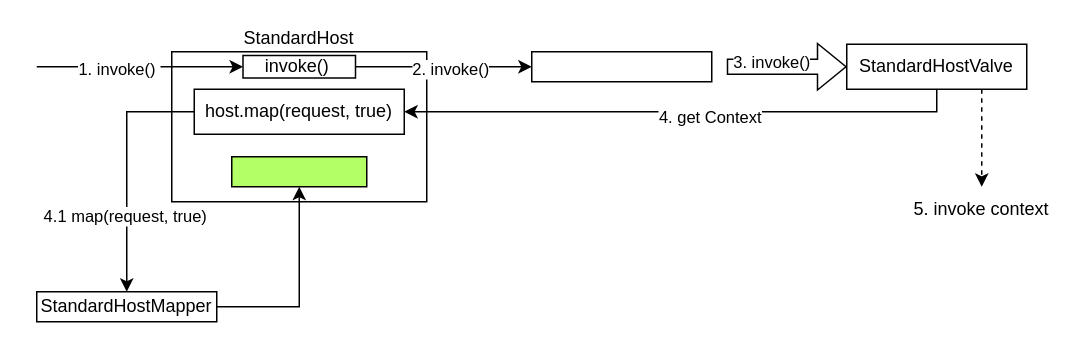
The diagram is 1083 pixels wide and 348 high, and some of its shapes have lost their labels. The centre of each missing label's shape, as x and y in pixels:
host.map(uri): (x=298, y=171)
StandardPipeline: (x=621, y=66)
